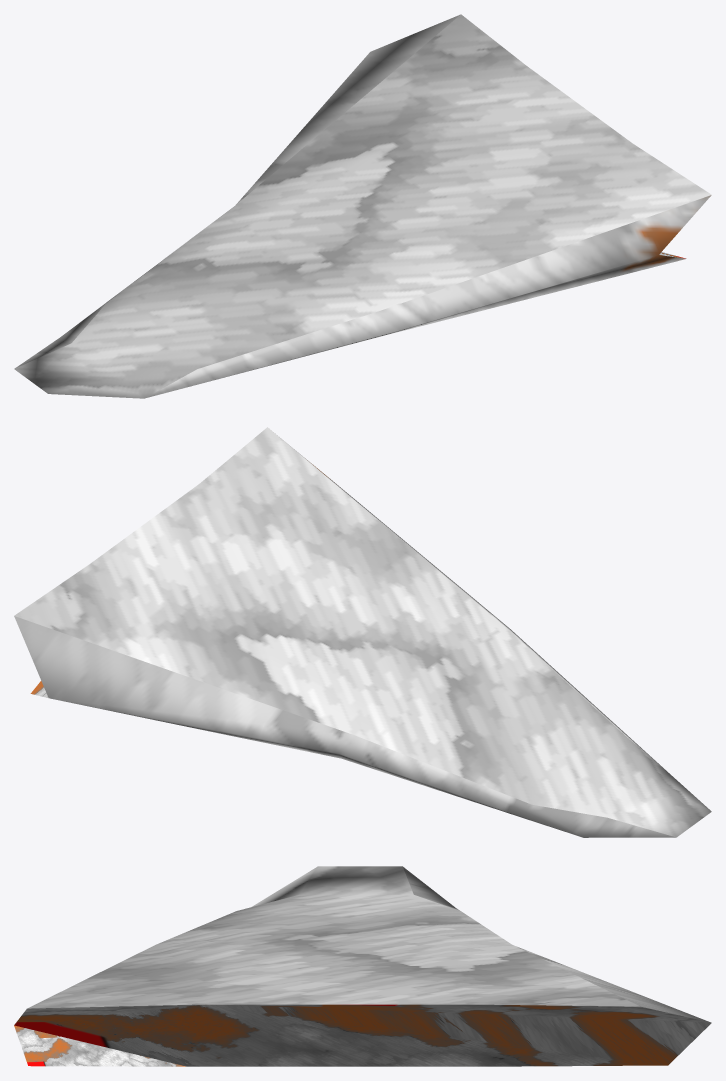
File: G35hopperDestructionPart6.fbx
3 views of the same model, one above another, from view 1: azimuth 30°, elevation 25°; view 2: azimuth 150°, elevation 25°; view 3: azimuth 270°, elevation 25° (orthographic). The views are drawn at different scales.
Parts seen in each view (by area): view 1: pCylinder1; view 2: pCylinder1; view 3: pCylinder1.
Part boxes in pixels (x1,y1,x2,y2): pCylinder1: (14, 14, 711, 398); pCylinder1: (14, 427, 711, 837); pCylinder1: (14, 866, 711, 1066).
Bounding box in the file's own units: 7.38 × 2.08 × 6.59.
Materials: 1 (1 with a texture image).
